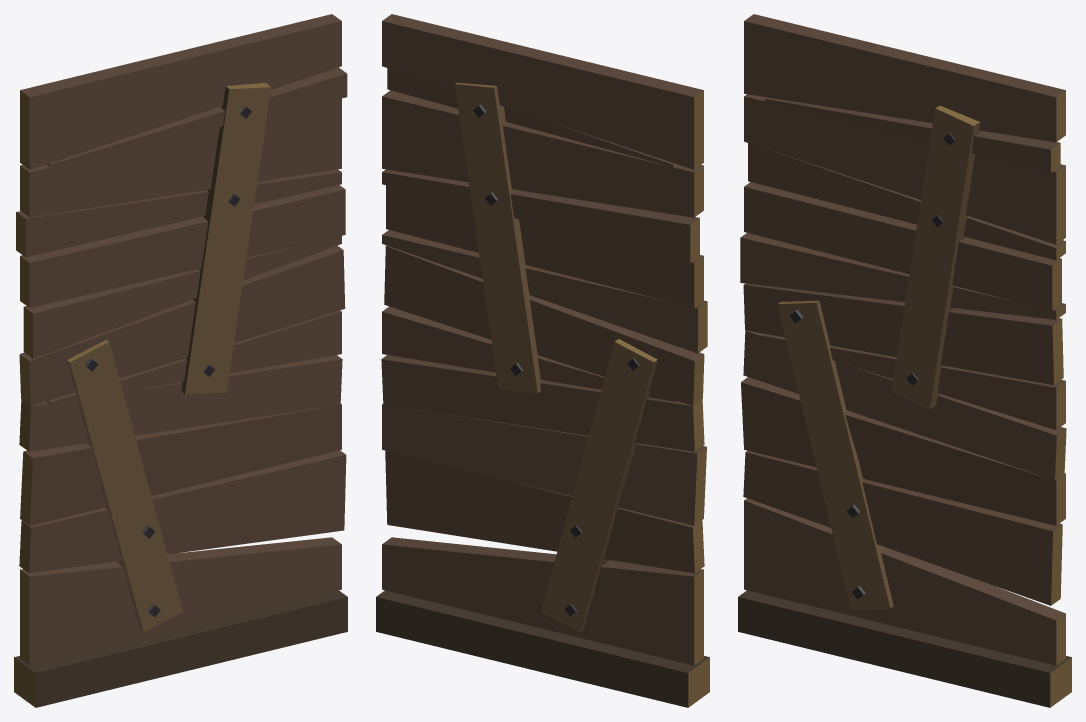
File: Wall_3A_2mx4m.fbx
3 renders of one model, left to right at view 1: azimuth 30°, elevation 25°; view 2: azimuth 150°, elevation 25°; view 3: azimuth 330°, elevation 25°, orthographic.
Visible parts, largest first — view 1: polySurface3039; view 2: polySurface3039; view 3: polySurface3039.
Boxes of the visible parts, x1,y1,x2,y2 form: polySurface3039: [14, 14, 347, 707]; polySurface3039: [376, 14, 709, 707]; polySurface3039: [738, 14, 1071, 707].
Bounding box in the file's own units: 202 × 373 × 24.19.
